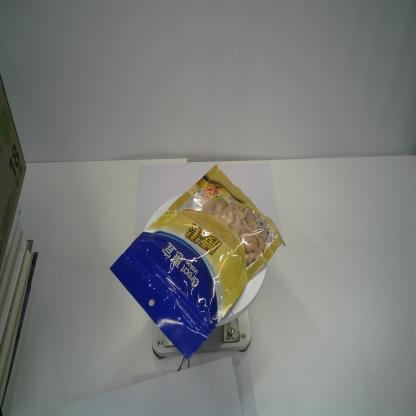Dried Fruit: (109, 164, 287, 360)
